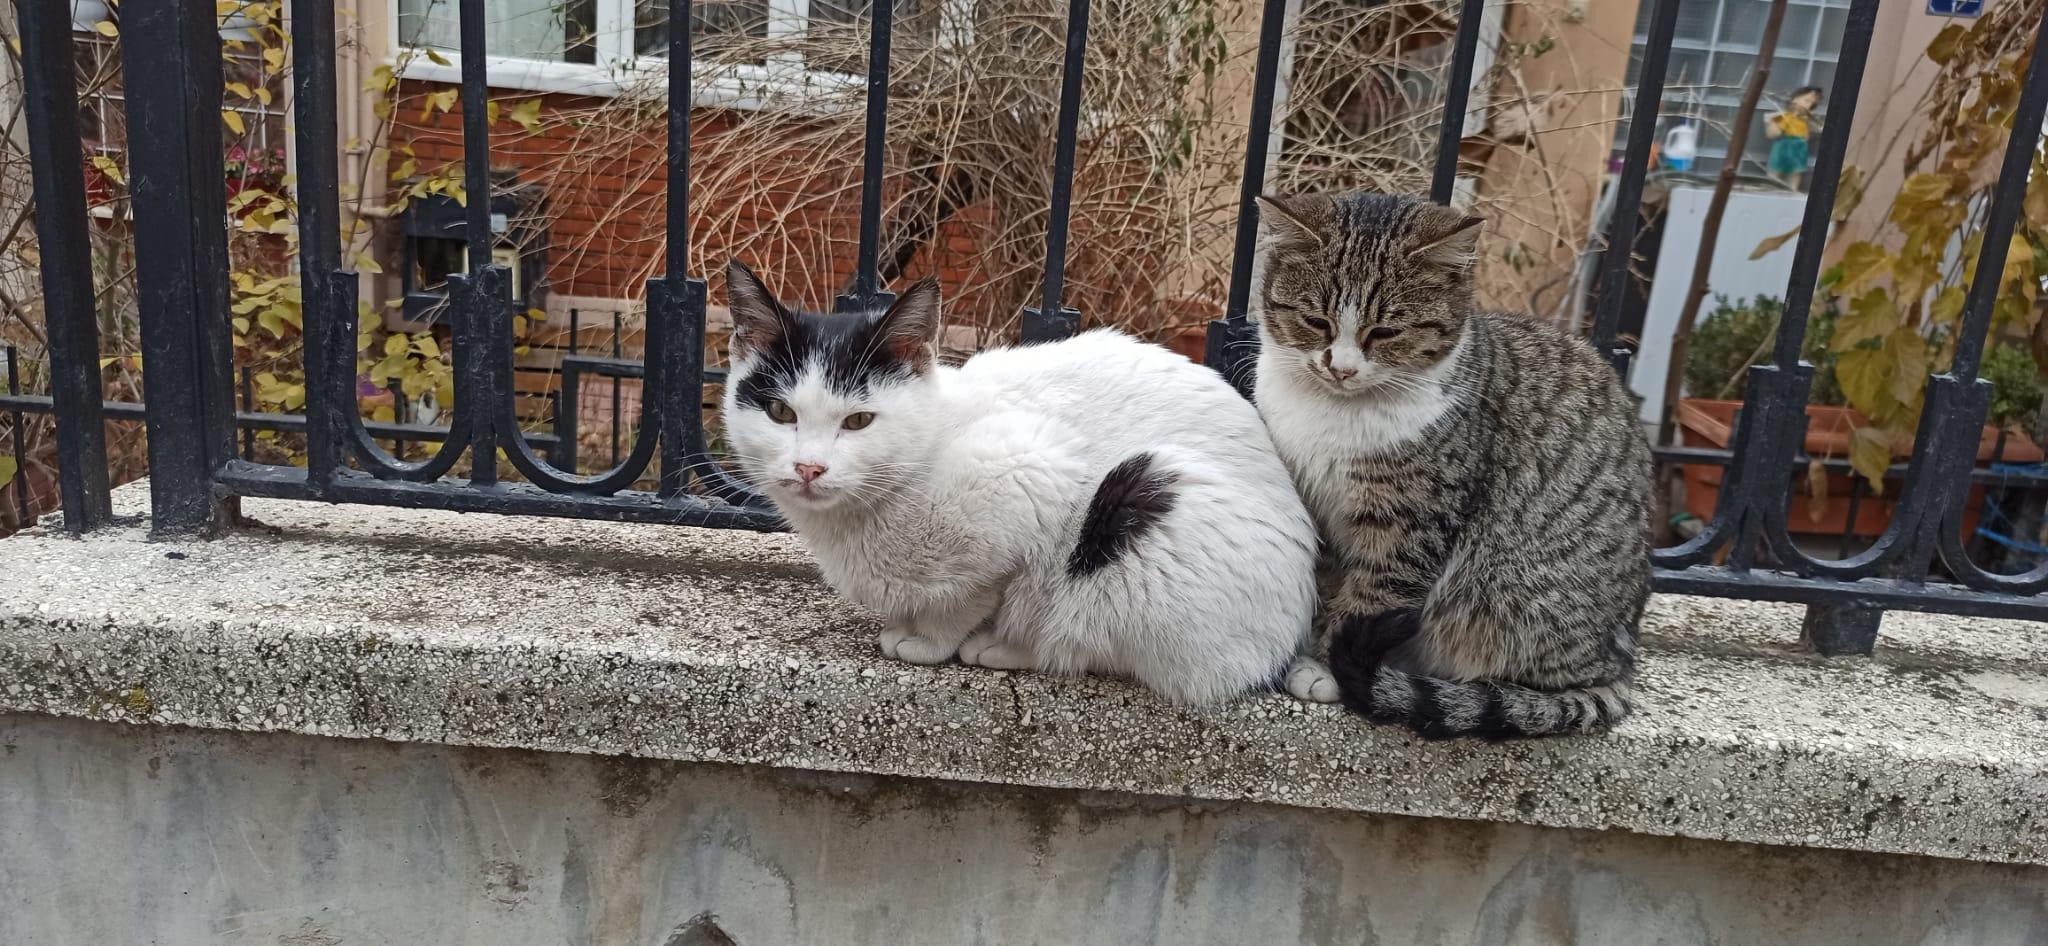kedo: (728, 267, 1315, 695), (1254, 187, 1650, 733)
